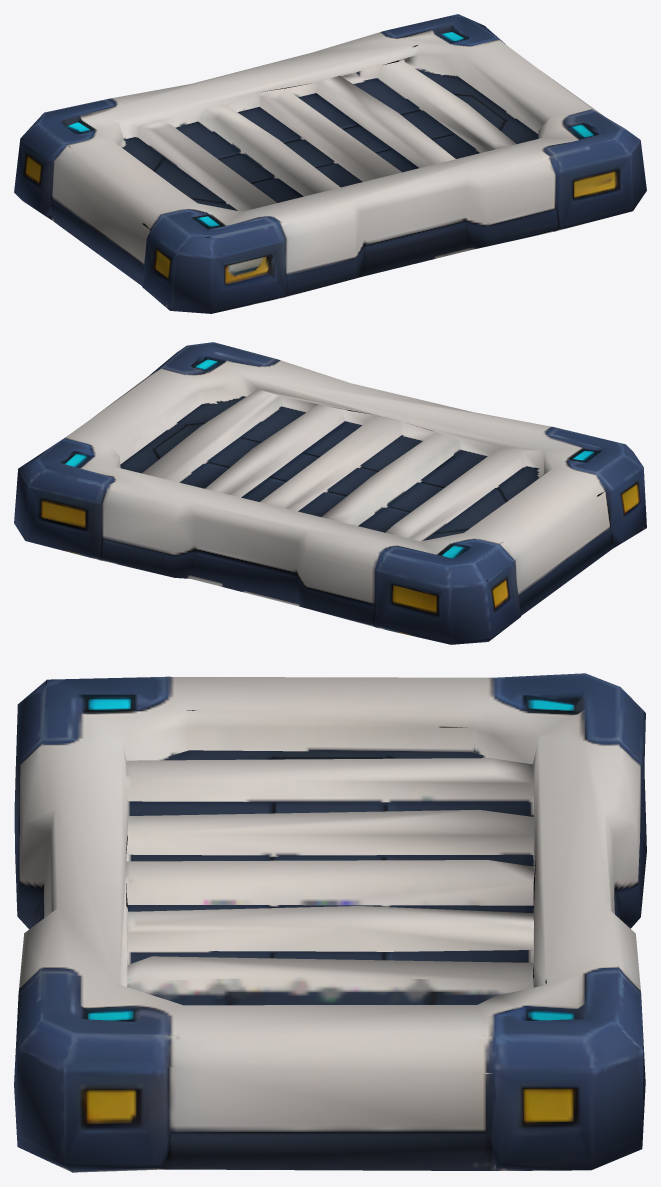
Rendered from cryo-trench-cover_LOD1.glb.
The picture shows the model from 3 angles, top to bottom: view 1: azimuth 30°, elevation 25°; view 2: azimuth 150°, elevation 25°; view 3: azimuth 270°, elevation 25°; orthographic projection. The views are drawn at different scales.
Visible parts, largest first — view 1: cryo-trench-cover_LOD1; view 2: cryo-trench-cover_LOD1; view 3: cryo-trench-cover_LOD1.
Boxes of the visible parts, x1=… form: cryo-trench-cover_LOD1: x1=14, y1=14, x2=646, y2=313; cryo-trench-cover_LOD1: x1=14, y1=342, x2=646, y2=644; cryo-trench-cover_LOD1: x1=14, y1=673, x2=646, y2=1172.
Size of the model in its own units: 0.8006 by 0.1189 by 0.5397.
1 material, 1 textured.
